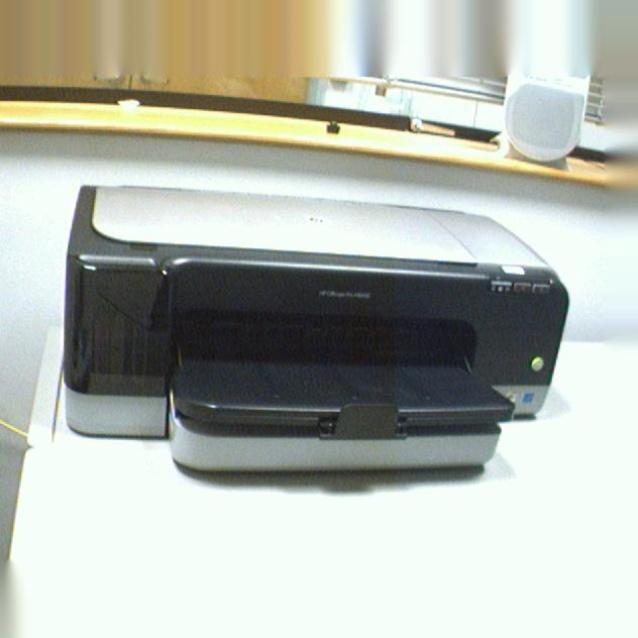Printer: (61, 182, 570, 472)
